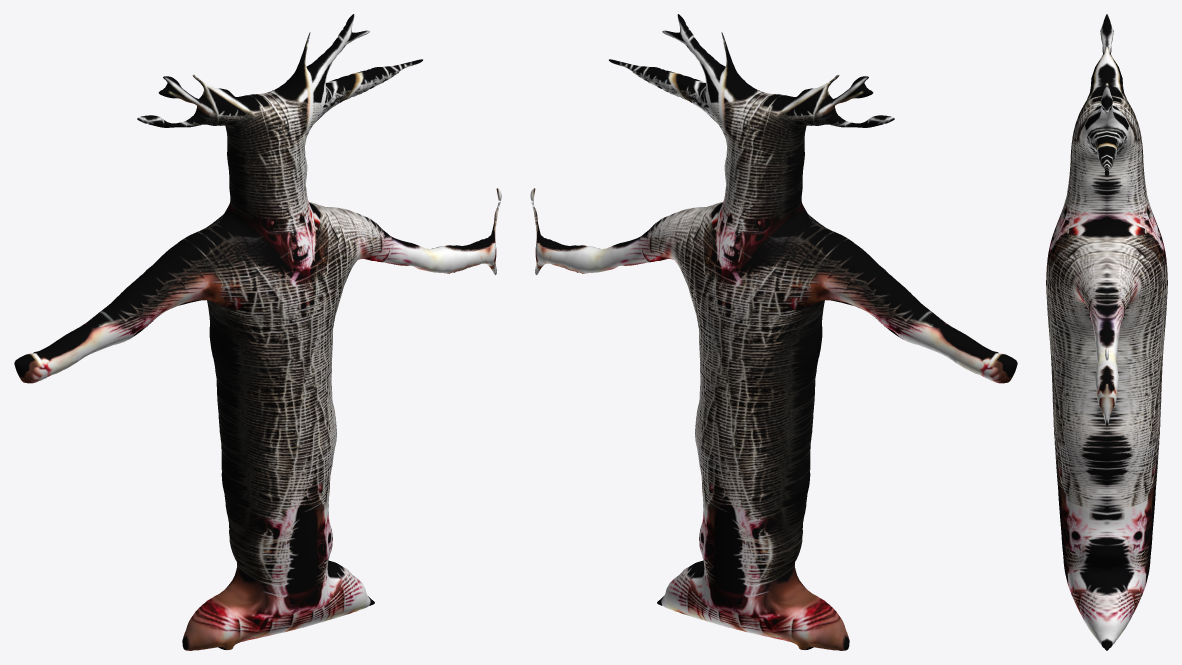
The model's file is deadbody3.glb.
3 views of the same model, side by side, from view 1: azimuth 30°, elevation 25°; view 2: azimuth 150°, elevation 25°; view 3: azimuth 270°, elevation 25° (orthographic). The views are drawn at different scales.
Bounding box in the file's own units: 6.74 × 7.89 × 1.56.
Materials: 1 (1 with a texture image).
